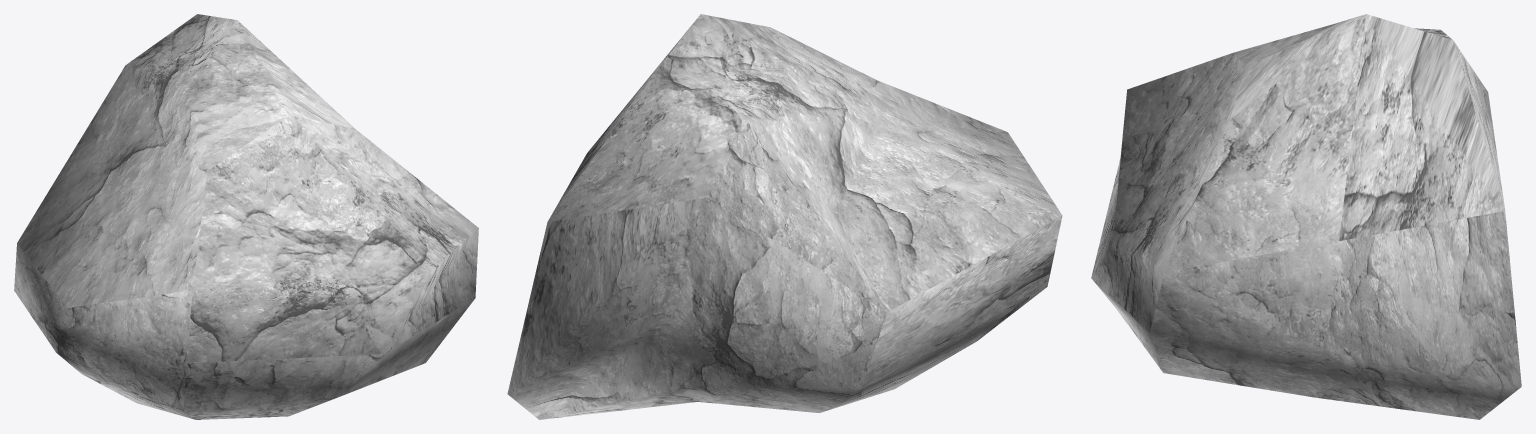
File: Rock_01.fbx
3 views of the same model, side by side, from view 1: azimuth 30°, elevation 25°; view 2: azimuth 150°, elevation 25°; view 3: azimuth 270°, elevation 25° (orthographic). The views are drawn at different scales.
Parts seen in each view (by area): view 1: Rock_01; view 2: Rock_01; view 3: Rock_01.
Part boxes in pixels (left/top/right/bottom): Rock_01: left=14, top=14, right=478, bottom=419; Rock_01: left=507, top=14, right=1062, bottom=419; Rock_01: left=1091, top=14, right=1521, bottom=419.
Size of the model in its own units: 1516 by 1266 by 1371.
